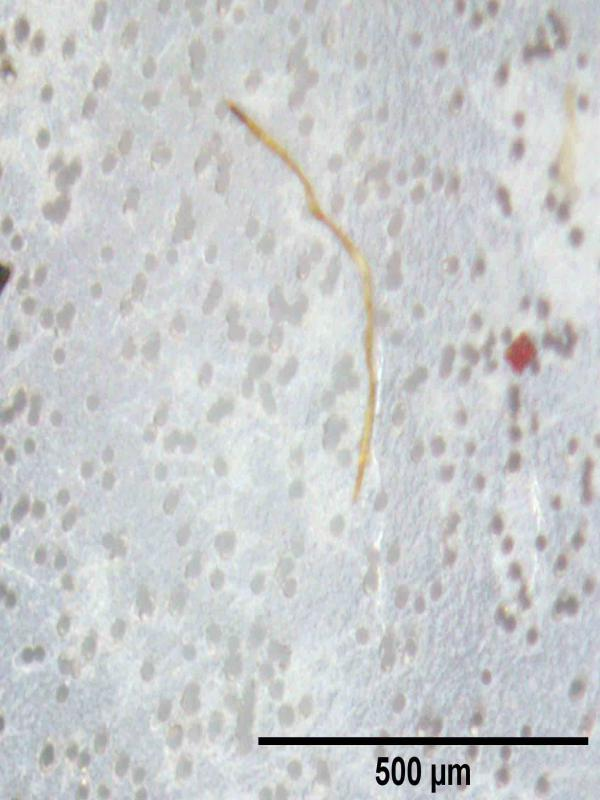microplastic: (0, 0, 600, 800), (223, 96, 380, 503)
